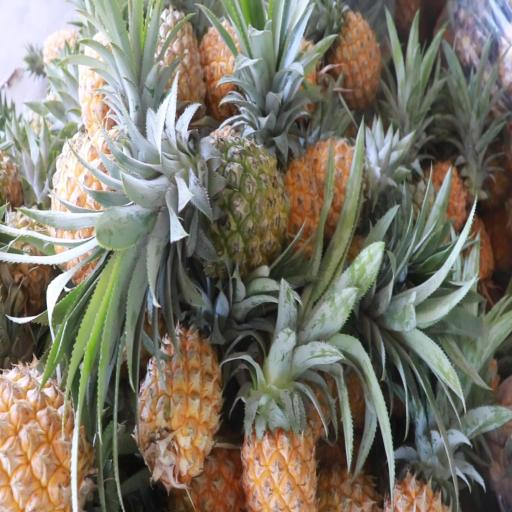Pineapple - v8 v1: (47, 128, 166, 284), (0, 368, 105, 512), (241, 327, 322, 511), (138, 319, 223, 493), (322, 11, 390, 114)
